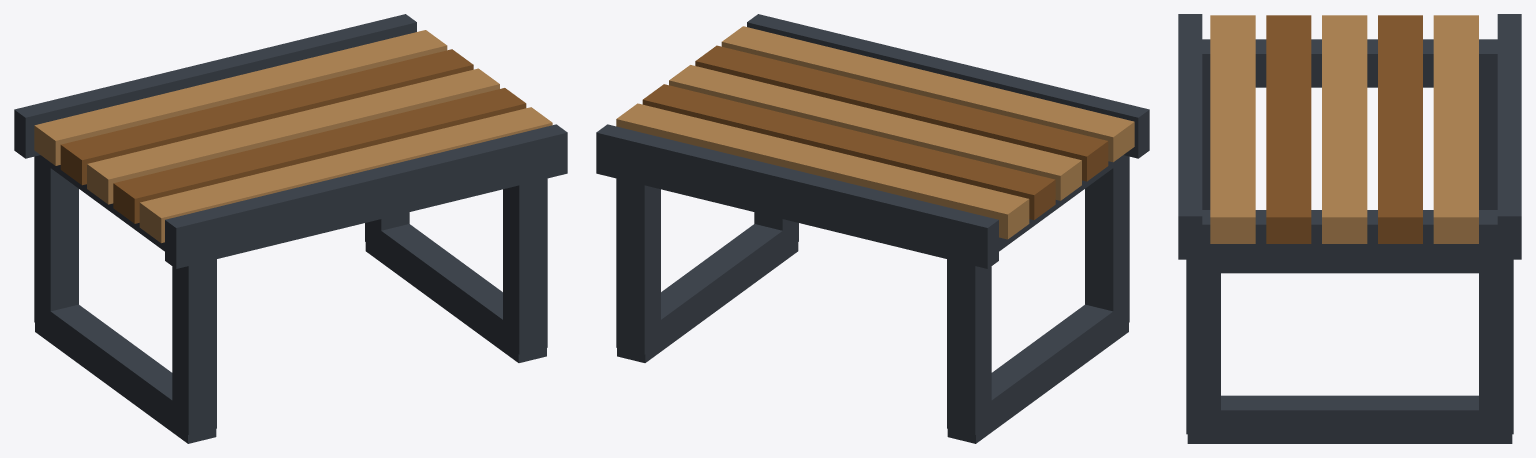
The model's file is bench-wood-1.glb.
The picture shows the model from 3 angles, left to right: view 1: azimuth 30°, elevation 25°; view 2: azimuth 150°, elevation 25°; view 3: azimuth 270°, elevation 25°; orthographic projection. The views are drawn at different scales.
Visible parts, largest first — view 1: BenchWood1, wood-bench-slat (×5); view 2: BenchWood1, wood-bench-slat (×5); view 3: BenchWood1, wood-bench-slat (×5).
Boxes of the visible parts, x1=… form: BenchWood1: x1=14, y1=14, x2=567, y2=443; wood-bench-slat (×5): x1=34, y1=30, x2=552, y2=243; BenchWood1: x1=596, y1=14, x2=1149, y2=443; wood-bench-slat (×5): x1=616, y1=26, x2=1134, y2=239; BenchWood1: x1=1178, y1=14, x2=1521, y2=443; wood-bench-slat (×5): x1=1210, y1=15, x2=1478, y2=243.
Bounding box in the file's own units: 0.9 × 0.49 × 0.645.
